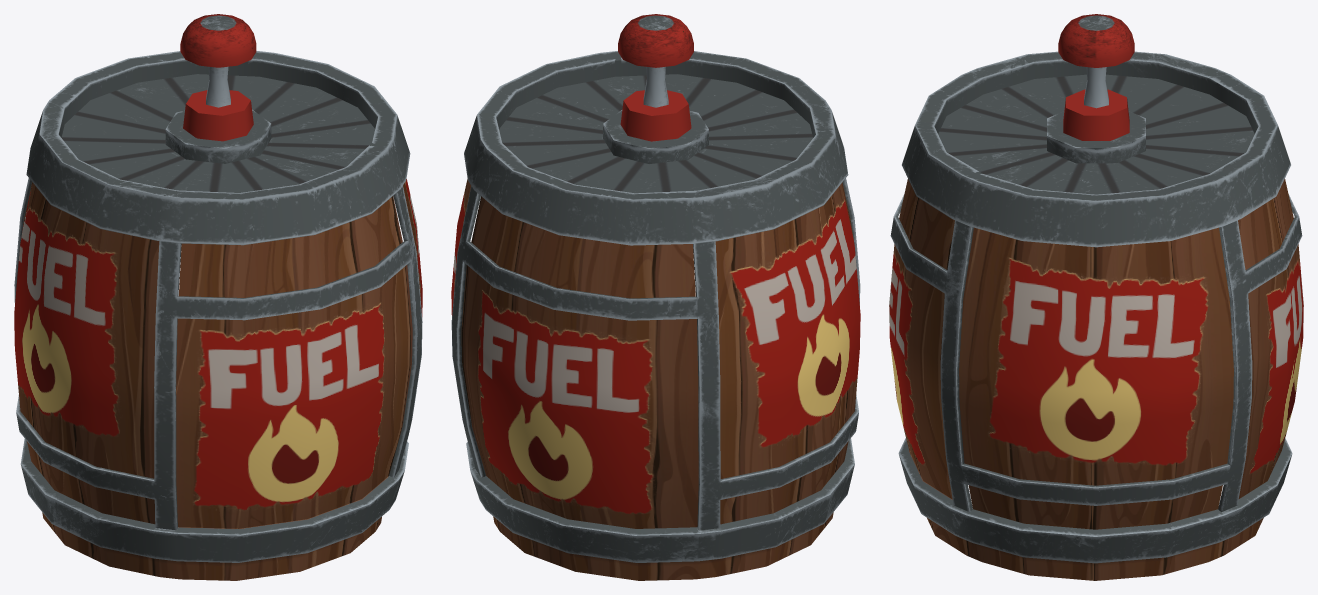
File: fuel_desktop.gltf
The picture shows the model from 3 angles, left to right: view 1: azimuth 30°, elevation 25°; view 2: azimuth 150°, elevation 25°; view 3: azimuth 270°, elevation 25°; orthographic projection.
Parts seen in each view (by area): view 1: barrel, rotor.hub; view 2: barrel, rotor.hub; view 3: barrel, rotor.hub.
Boxes of the visible parts, x1,y1,x2,y2 form: barrel: (14, 51, 422, 580); rotor.hub: (180, 14, 256, 107); barrel: (451, 51, 860, 580); rotor.hub: (618, 14, 693, 107); barrel: (889, 51, 1303, 580); rotor.hub: (1058, 14, 1134, 108).
Bounding box in the file's own units: 0.9395 × 1.22 × 0.9395.
Materials: 1 (1 with a texture image).
